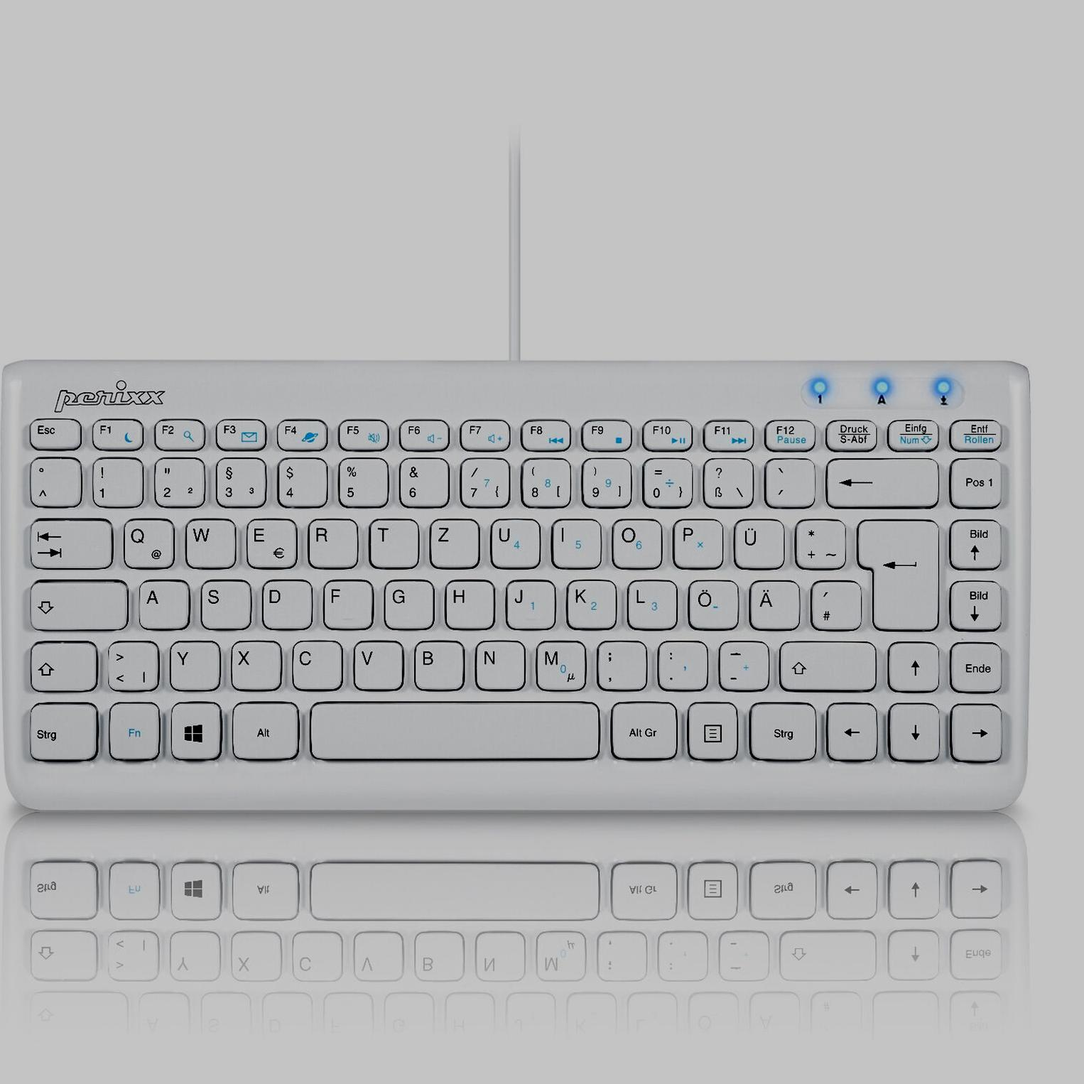0: (640, 454, 692, 506)
1: (91, 455, 142, 506)
2: (152, 454, 205, 505)
3: (213, 455, 265, 505)
4: (276, 455, 326, 506)
5: (336, 455, 387, 506)
6: (397, 455, 448, 506)
7: (458, 455, 509, 506)
8: (519, 455, 570, 506)
9: (579, 455, 631, 506)
a: (136, 577, 188, 628)
accent: (763, 455, 813, 506)
ae: (747, 577, 798, 628)
alt-left: (229, 699, 300, 759)
altgr-right: (607, 699, 678, 758)
b: (411, 638, 463, 689)
c: (290, 638, 342, 689)
caret: (28, 454, 80, 506)
comma: (594, 638, 646, 689)
d: (260, 577, 311, 629)
del: (824, 454, 938, 506)
e: (244, 516, 296, 568)
enter: (853, 514, 939, 630)
f: (322, 578, 372, 628)
g: (381, 577, 432, 628)
h: (443, 578, 493, 628)
hash: (808, 578, 860, 629)
i: (550, 516, 600, 567)
j: (503, 577, 553, 628)
k: (565, 576, 615, 628)
keyboard: (1, 356, 1045, 826)
l: (625, 577, 676, 629)
less: (104, 638, 158, 690)
m: (533, 638, 585, 690)
minus: (715, 638, 769, 689)
n: (472, 638, 524, 688)
o: (609, 516, 661, 567)
oe: (685, 577, 737, 628)
p: (671, 516, 722, 566)
plus: (793, 516, 845, 568)
point: (655, 638, 707, 689)
q: (120, 516, 173, 568)
r: (306, 516, 357, 567)
s: (198, 577, 250, 629)
shift-left: (27, 638, 97, 690)
shift-lock: (27, 577, 128, 629)
shift-right: (777, 636, 875, 689)
space: (308, 698, 598, 760)
ss: (700, 455, 752, 506)
strg-left: (24, 699, 97, 759)
strg-right: (746, 699, 817, 759)
t: (367, 516, 418, 567)
tab: (26, 515, 112, 568)
u: (488, 515, 539, 567)
ue: (731, 516, 783, 568)
v: (351, 638, 402, 689)
w: (183, 516, 234, 567)
x: (229, 638, 281, 689)
y: (168, 638, 219, 690)
z: (428, 516, 478, 567)
